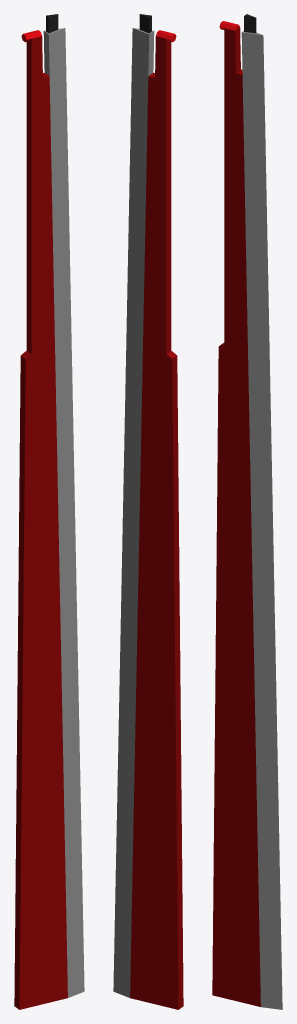
File: SM_Fin.fbx
3 renders of one model, left to right at view 1: azimuth 30°, elevation 25°; view 2: azimuth 150°, elevation 25°; view 3: azimuth 330°, elevation 25°, orthographic.
Parts seen in each view (by area): view 1: group_0.008; view 2: group_0.008; view 3: group_0.008.
Boxes of the visible parts, x1,y1,x2,y2 form: group_0.008: (14, 14, 84, 1009); group_0.008: (113, 14, 183, 1009); group_0.008: (212, 14, 282, 1009).
Size of the model in its own units: 64.01 by 890 by 8.33.
